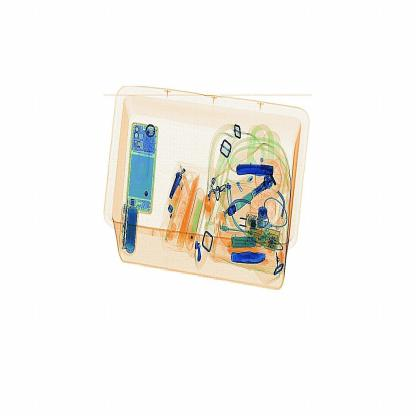knife: (232, 160, 278, 180)
